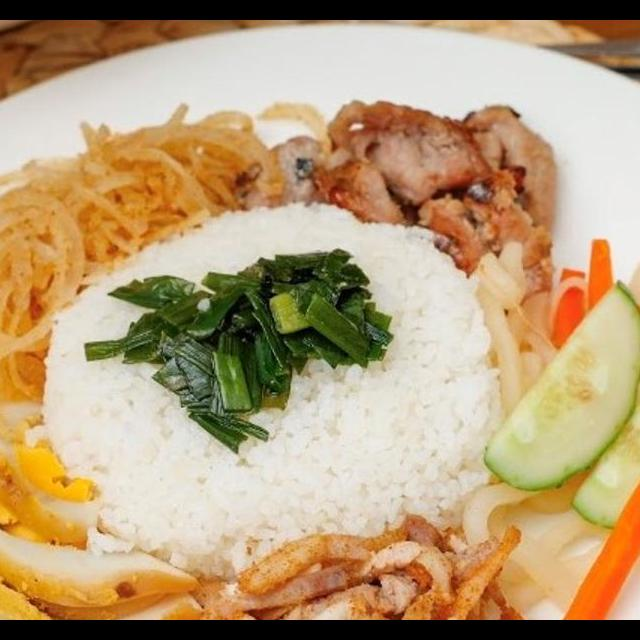bi: (0, 98, 291, 413), (183, 506, 530, 620)
com: (40, 197, 506, 585)
com suon bi trung: (0, 77, 640, 620)
dua chua: (446, 230, 640, 620)
suon: (260, 88, 564, 303)
trung: (0, 398, 209, 620)
